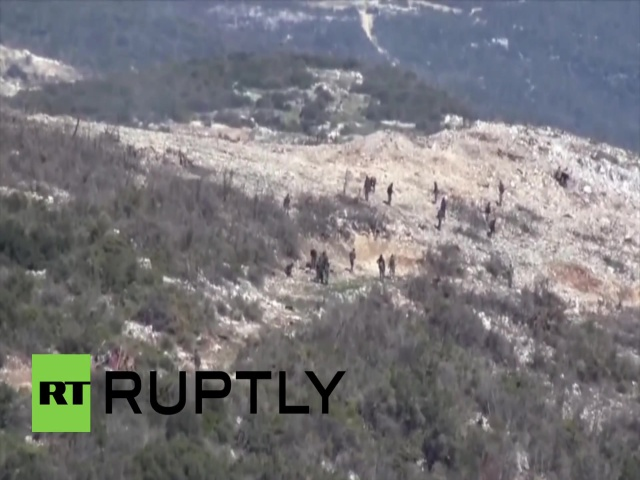person: (374, 254, 387, 279), (387, 249, 397, 277), (361, 176, 371, 201), (386, 181, 395, 205), (348, 248, 357, 272), (433, 179, 440, 203)
